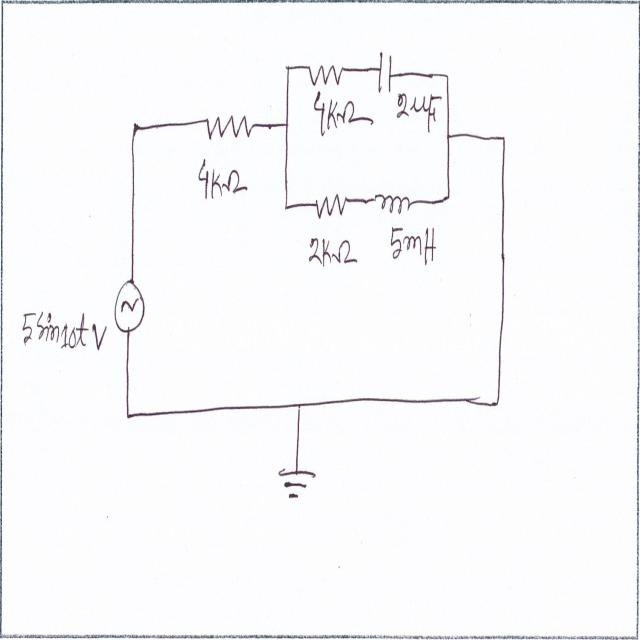ac_current: (111, 277, 146, 337)
capacitor: (376, 48, 395, 95)
ground: (276, 462, 323, 504)
inductor: (374, 184, 410, 223)
resistor: (203, 94, 254, 148), (310, 54, 349, 88), (316, 188, 348, 227)
